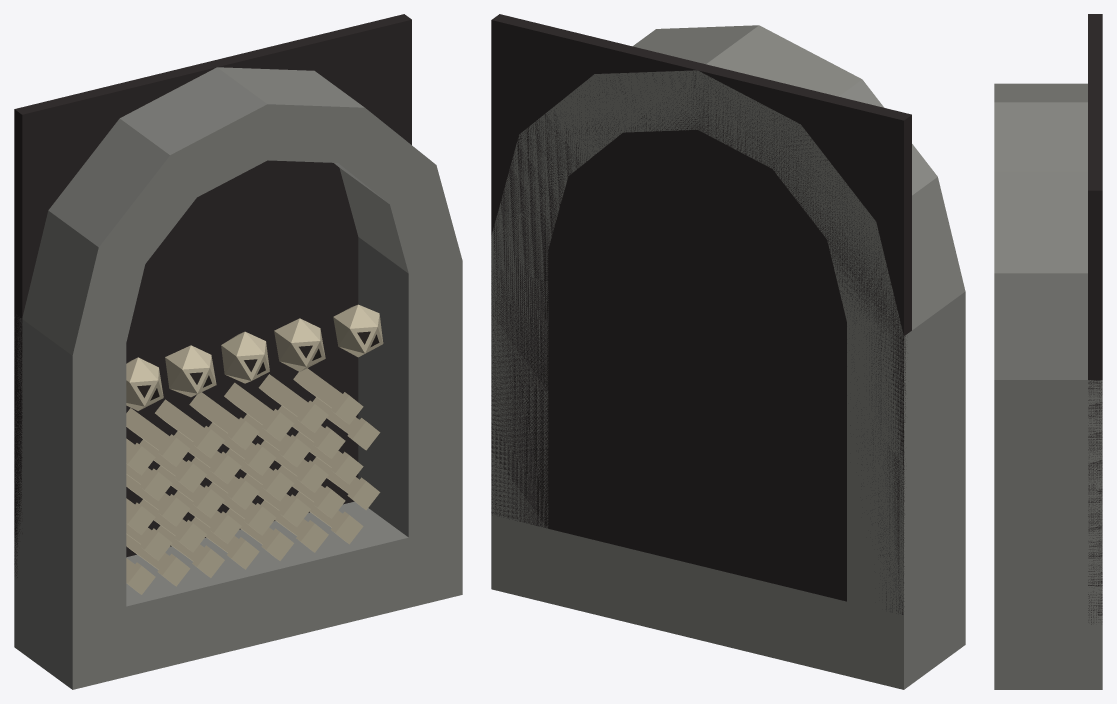
File: CharnelRecess.fbx
3 views of the same model, side by side, from view 1: azimuth 30°, elevation 25°; view 2: azimuth 150°, elevation 25°; view 3: azimuth 270°, elevation 25° (orthographic). The views are drawn at different scales.
Visible parts, largest first — view 1: CharnelRecess; view 2: CharnelRecess; view 3: CharnelRecess.
Part boxes in pixels (x1,y1,x2,y2): CharnelRecess: (14,14,462,689); CharnelRecess: (491,14,965,689); CharnelRecess: (994,14,1102,689).
Size of the model in its own units: 1.16 by 1.53 by 0.3.
